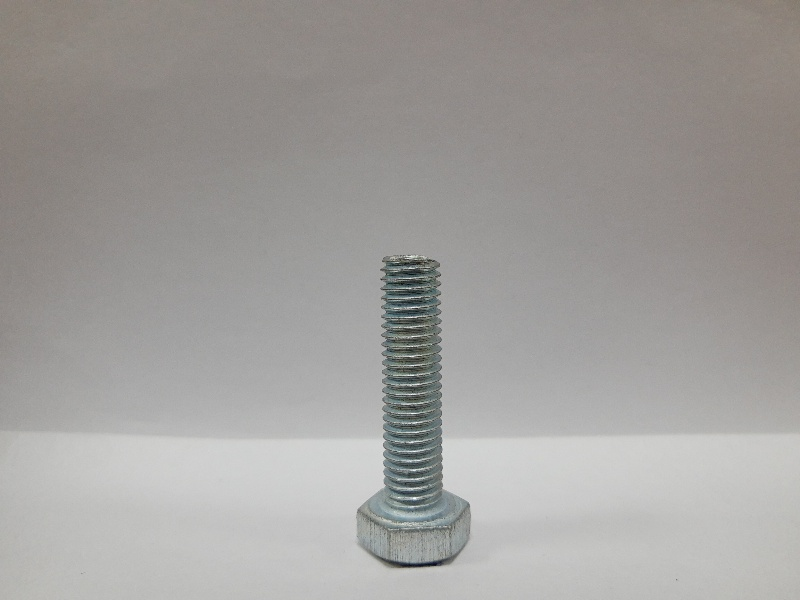pf: (354, 249, 477, 571)
